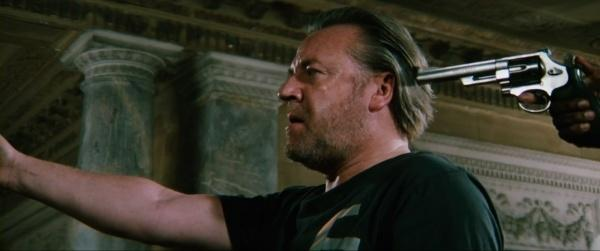Gun: (412, 46, 582, 113)
